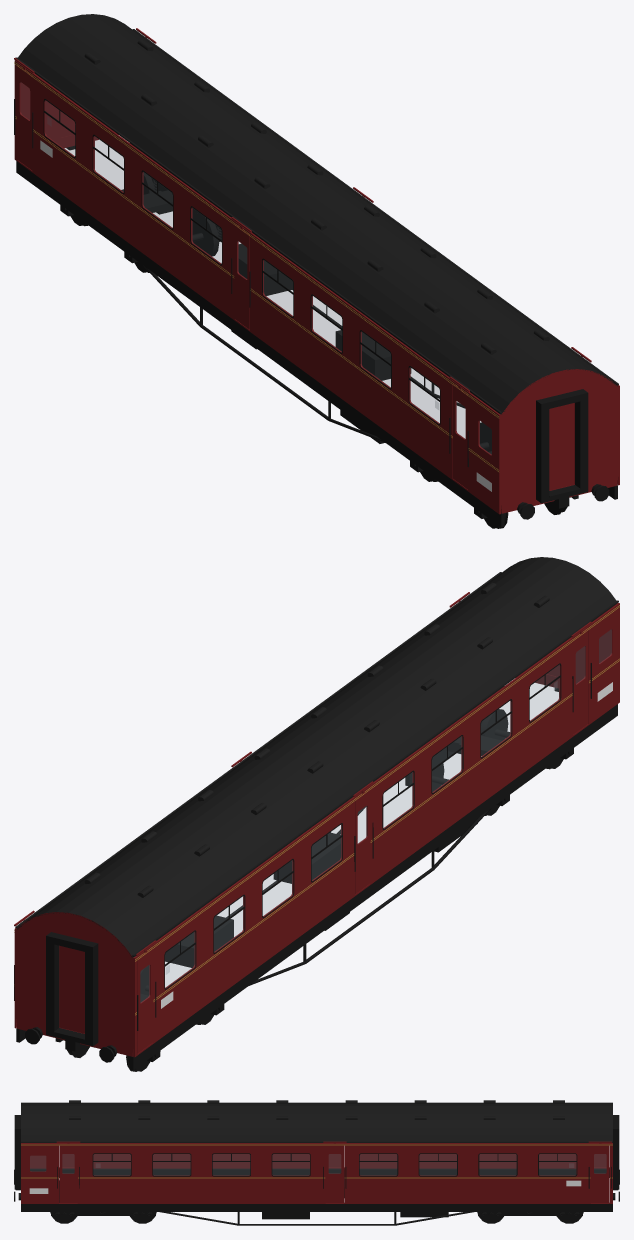
Rendered from coach_buffet1_lod1.glb.
The picture shows the model from 3 angles, top to bottom: view 1: azimuth 30°, elevation 25°; view 2: azimuth 150°, elevation 25°; view 3: azimuth 270°, elevation 25°; orthographic projection. The views are drawn at different scales.
Visible parts, largest first — view 1: coach_static_roof_black, coach_static_coach_maroon, coach_static_underframe, coach_static_glass, coach_static_lining_gold, gw_door_A_coach_maroon; view 2: coach_static_roof_black, coach_static_coach_maroon, coach_static_underframe, coach_static_glass, coach_static_lining_gold, gw_door_B_coach_maroon; view 3: coach_static_coach_maroon, coach_static_roof_black, coach_static_underframe, coach_static_glass, coach_static_lining_gold.
Boxes of the visible parts, box(x1,y1,x2,y2) form: coach_static_roof_black: box(15, 14, 618, 414); coach_static_coach_maroon: box(14, 28, 619, 514); coach_static_underframe: box(14, 99, 617, 528); coach_static_glass: box(20, 82, 491, 454); coach_static_lining_gold: box(14, 62, 499, 472); gw_door_A_coach_maroon: box(549, 403, 574, 490); coach_static_roof_black: box(15, 557, 618, 957); coach_static_coach_maroon: box(14, 592, 619, 1057); coach_static_underframe: box(14, 663, 617, 1071); coach_static_glass: box(140, 629, 611, 1002); coach_static_lining_gold: box(14, 605, 619, 1015); gw_door_B_coach_maroon: box(59, 946, 84, 1033); coach_static_coach_maroon: box(21, 1141, 612, 1203); coach_static_roof_black: box(21, 1100, 612, 1142); coach_static_underframe: box(14, 1115, 619, 1225); coach_static_glass: box(30, 1154, 606, 1175); coach_static_lining_gold: box(21, 1144, 612, 1178).
Bounding box in the file's own units: 2.9 × 3.91 × 20.12.
